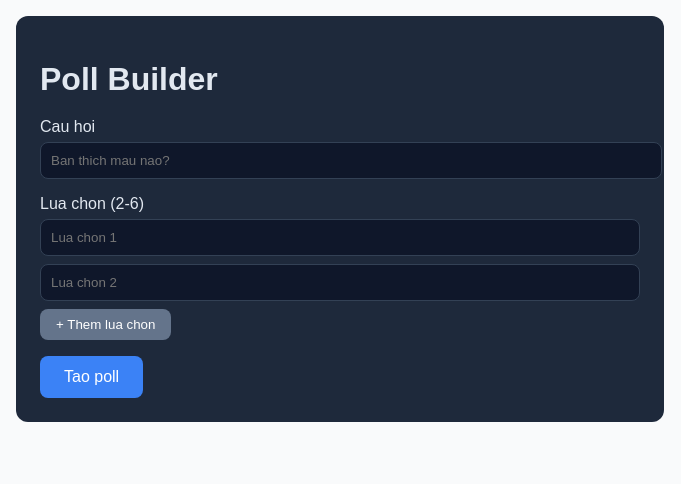
Test: CreatePoll › xoá được lựa chọn khi có hơn 2 lựa chọn
Click the button "+ Them lua chon".
click(106, 325)  # box x1=40 y1=309 x2=171 y2=340
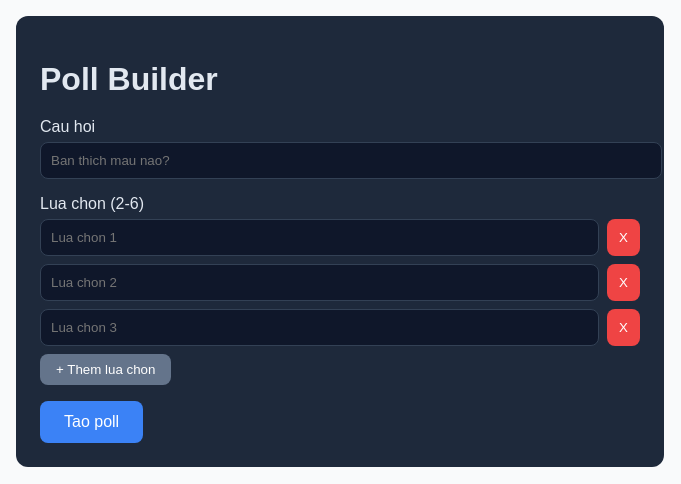
Expected: the number of fields is 4, x1=40 y1=142 x2=662 y2=179; x1=40 y1=219 x2=599 y2=256; x1=40 y1=264 x2=599 y2=301; x1=40 y1=309 x2=599 y2=346
Expected: the 1st button "X" is shown
Click the 1st button "X".
click(624, 238)  # box x1=607 y1=219 x2=640 y2=256
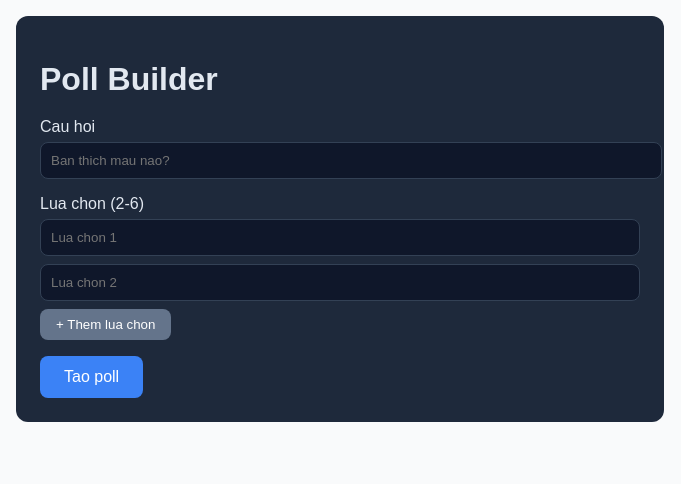
Expected: the number of fields is 3, x1=40 y1=142 x2=662 y2=179; x1=40 y1=219 x2=640 y2=256; x1=40 y1=264 x2=640 y2=301
